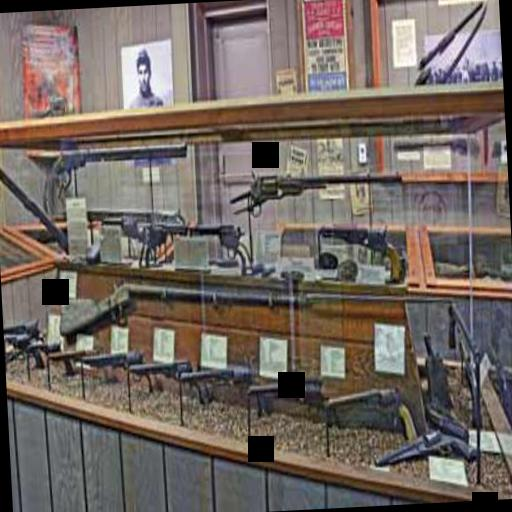Handgun: (314, 362, 419, 465), (183, 342, 262, 453), (242, 358, 334, 452), (128, 328, 210, 428), (176, 195, 261, 284), (79, 336, 160, 414), (2, 302, 40, 382)
